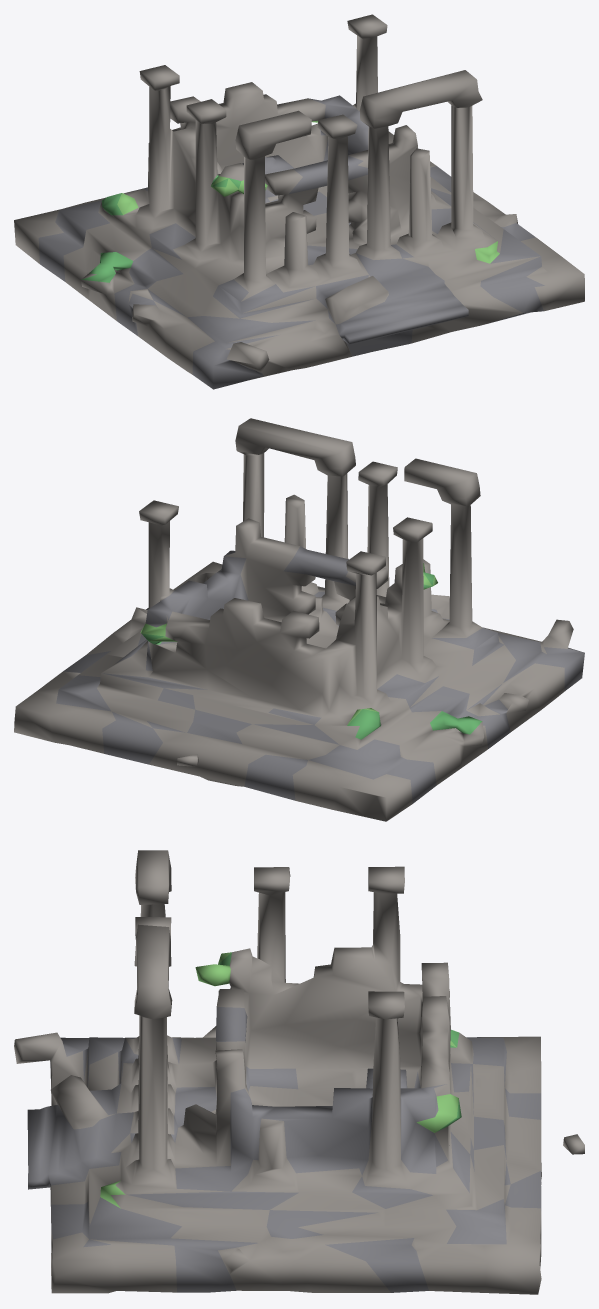
The model's file is poi_ruin_temple_LOD2.glb.
3 views of the same model, one above another, from view 1: azimuth 30°, elevation 25°; view 2: azimuth 150°, elevation 25°; view 3: azimuth 270°, elevation 25° (orthographic). The views are drawn at different scales.
Visible parts, largest first — view 1: poi_ruin_temple_LOD2; view 2: poi_ruin_temple_LOD2; view 3: poi_ruin_temple_LOD2.
Boxes of the visible parts, x1,y1,x2,y2 form: poi_ruin_temple_LOD2: (14,14,584,389); poi_ruin_temple_LOD2: (14,418,584,821); poi_ruin_temple_LOD2: (14,850,584,1294).
Size of the model in its own units: 13.68 by 7.14 by 13.94.
